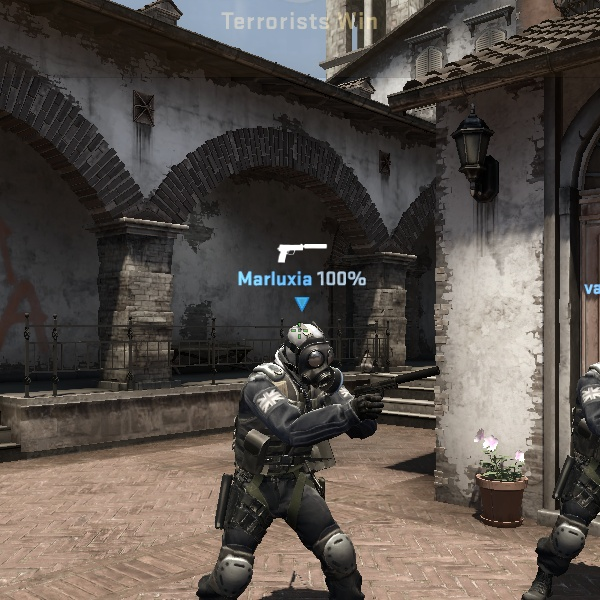ct_body: (197, 317, 388, 596)
ct_head: (269, 317, 349, 396)
